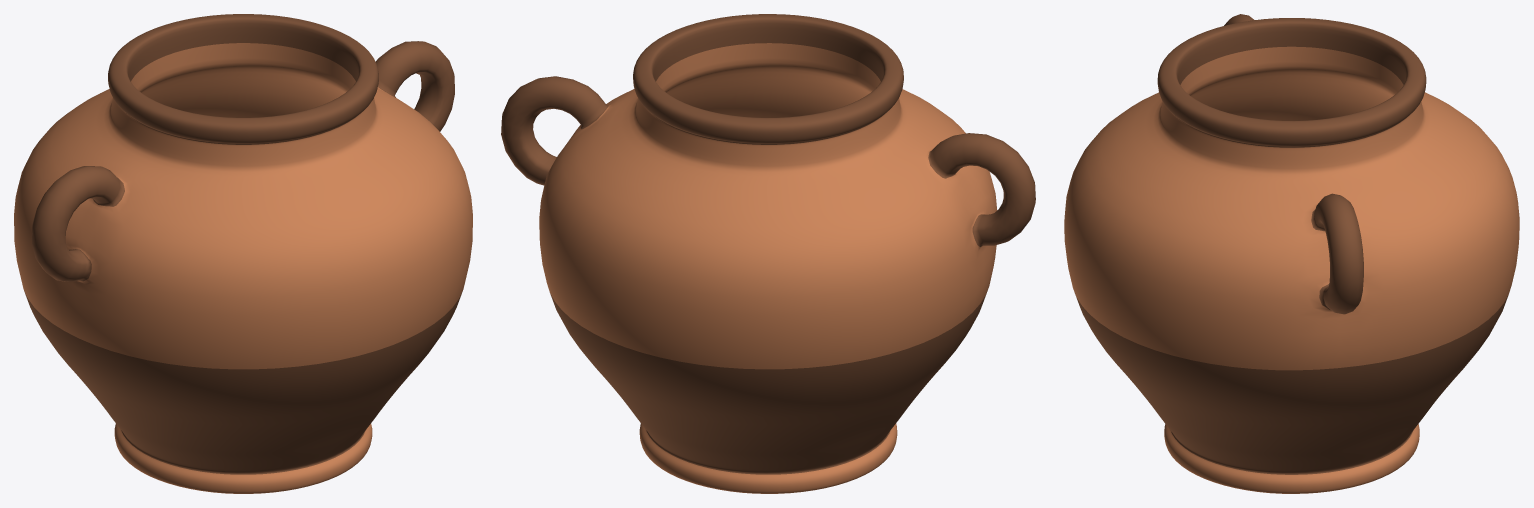
File: Vase2.fbx
3 views of the same model, side by side, from view 1: azimuth 30°, elevation 25°; view 2: azimuth 150°, elevation 25°; view 3: azimuth 270°, elevation 25° (orthographic).
Parts seen in each view (by area): view 1: 2; view 2: 2; view 3: 2.
Part boxes in pixels (left/top/right/bottom): 2: left=14, top=14, right=472, bottom=493; 2: left=501, top=14, right=1035, bottom=493; 2: left=1064, top=14, right=1519, bottom=493.
Bounding box in the file's own units: 0.3804 × 0.2866 × 0.3187.
